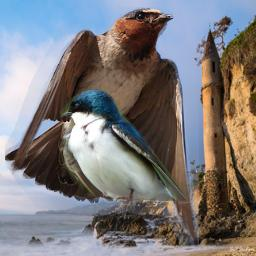Swallow: (5, 7, 199, 250), (59, 87, 190, 220)
